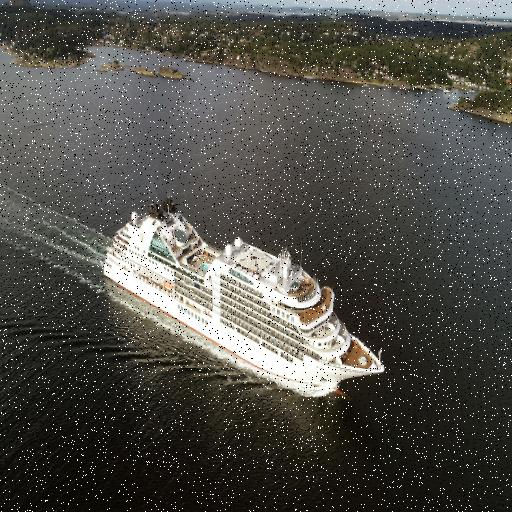cruises: (102, 192, 388, 405)
